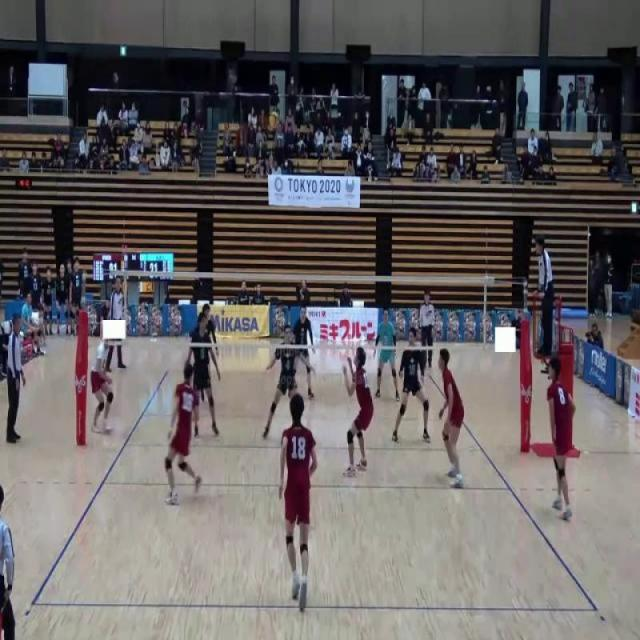volleyball: (269, 111, 278, 129)
